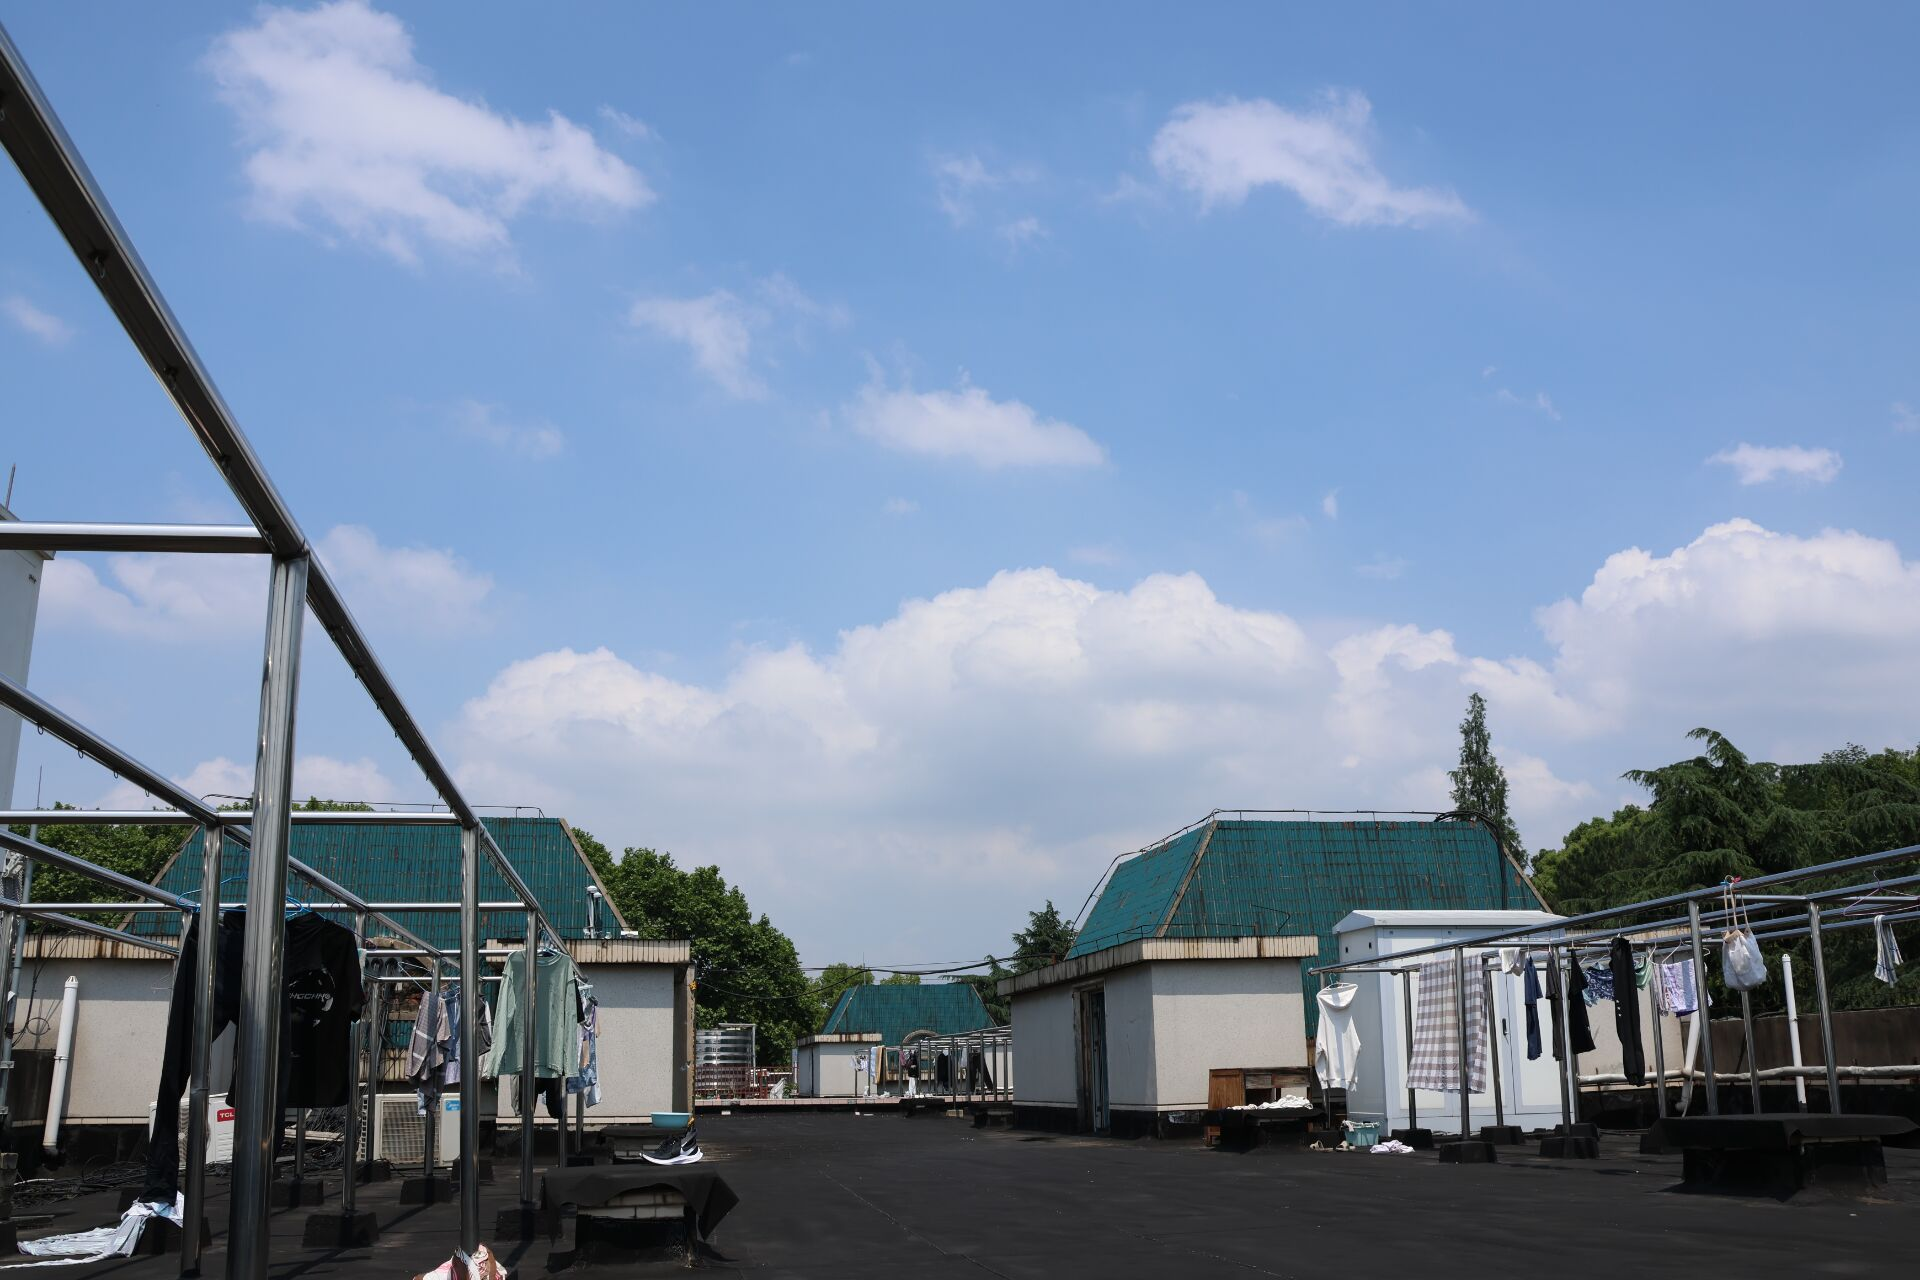Cumulus: (421, 446, 1477, 889), (1383, 441, 1920, 756)
